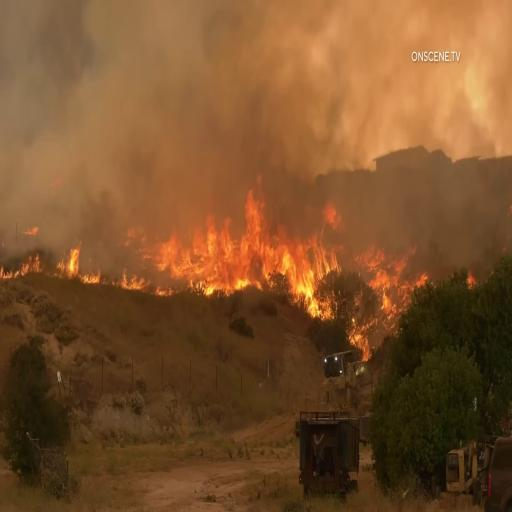fire: (136, 185, 347, 314), (363, 243, 422, 328), (0, 238, 51, 288), (64, 244, 84, 288), (117, 269, 146, 299)
smoke: (191, 8, 282, 164), (64, 10, 148, 134)
